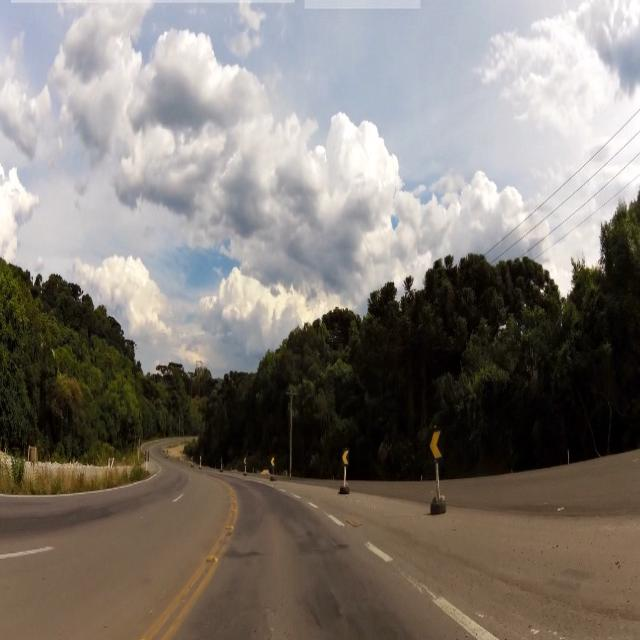Del: (431, 429, 444, 462), (341, 440, 349, 470)
